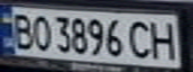3: (51, 14, 72, 54)
6: (103, 16, 127, 58)
8: (66, 15, 87, 55)
9: (84, 16, 109, 56)
B: (6, 10, 36, 51)
C: (124, 17, 157, 60)
H: (145, 17, 181, 61)
O: (27, 11, 54, 52)
